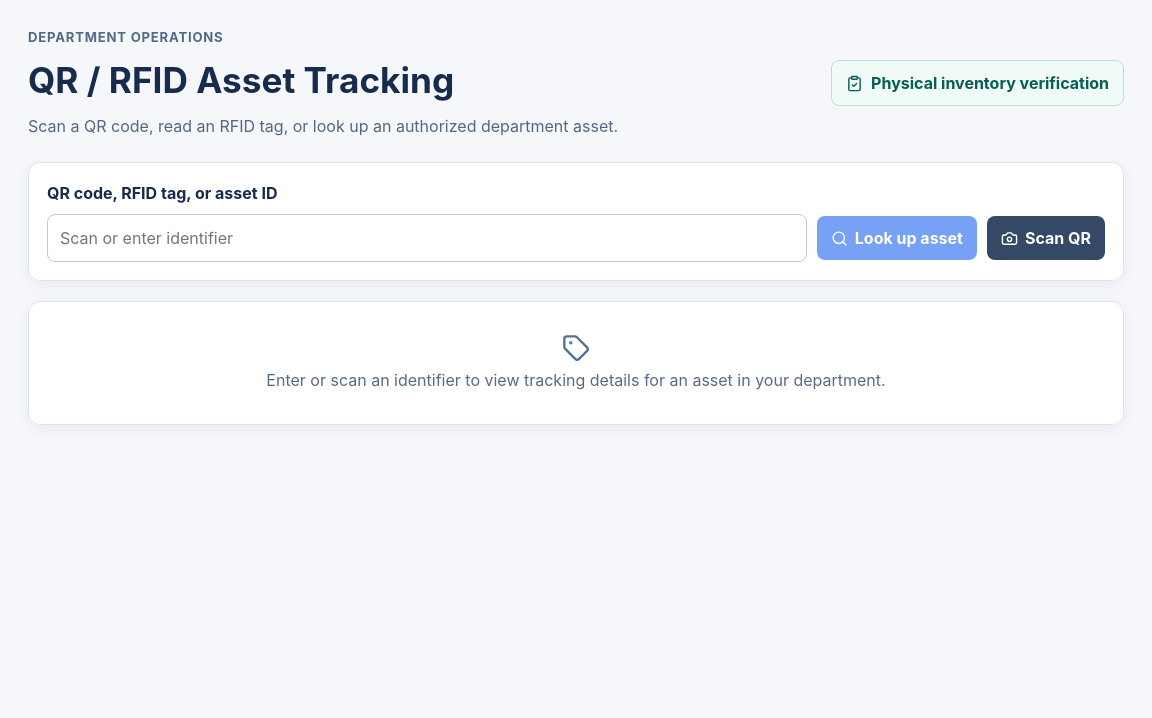
Test: keeps the asset view when an optional tracking panel is not available
Type "QR-21" into the field labelled "QR code, RFID tag, or asset ID" at (427, 238), box top-left (47, 214), bottom-right (807, 262)
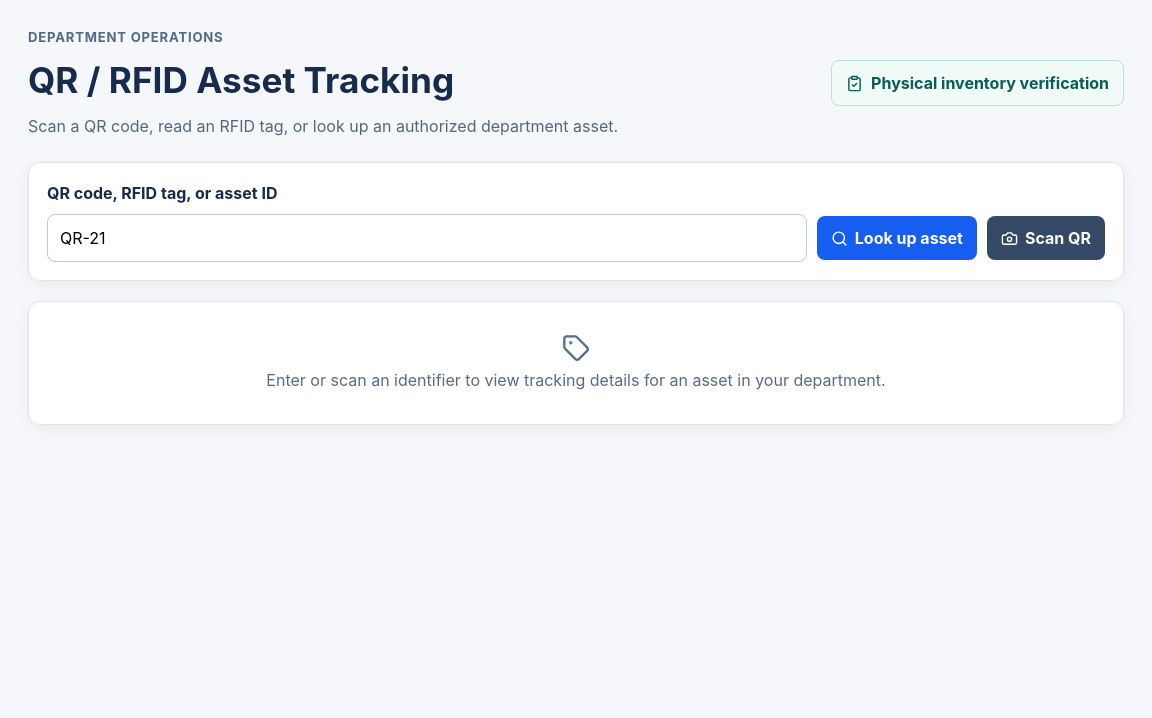
Click the button "Look up asset" at (897, 238), box top-left (817, 216), bottom-right (977, 260)
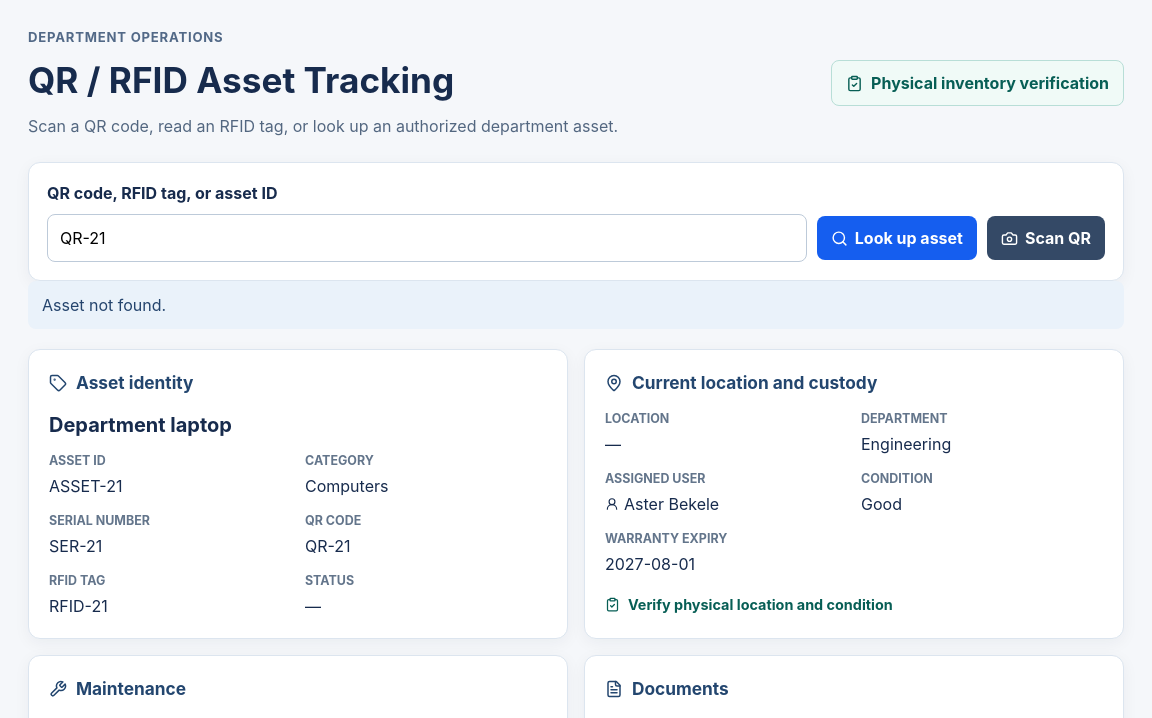
Expected: the heading "Department laptop" is shown, top-left (49, 413), bottom-right (232, 437)
Expected: the text "ASSET-21" is shown, top-left (49, 476), bottom-right (122, 496)
Expected: the message reads "Asset not found.", top-left (42, 296), bottom-right (166, 316)
